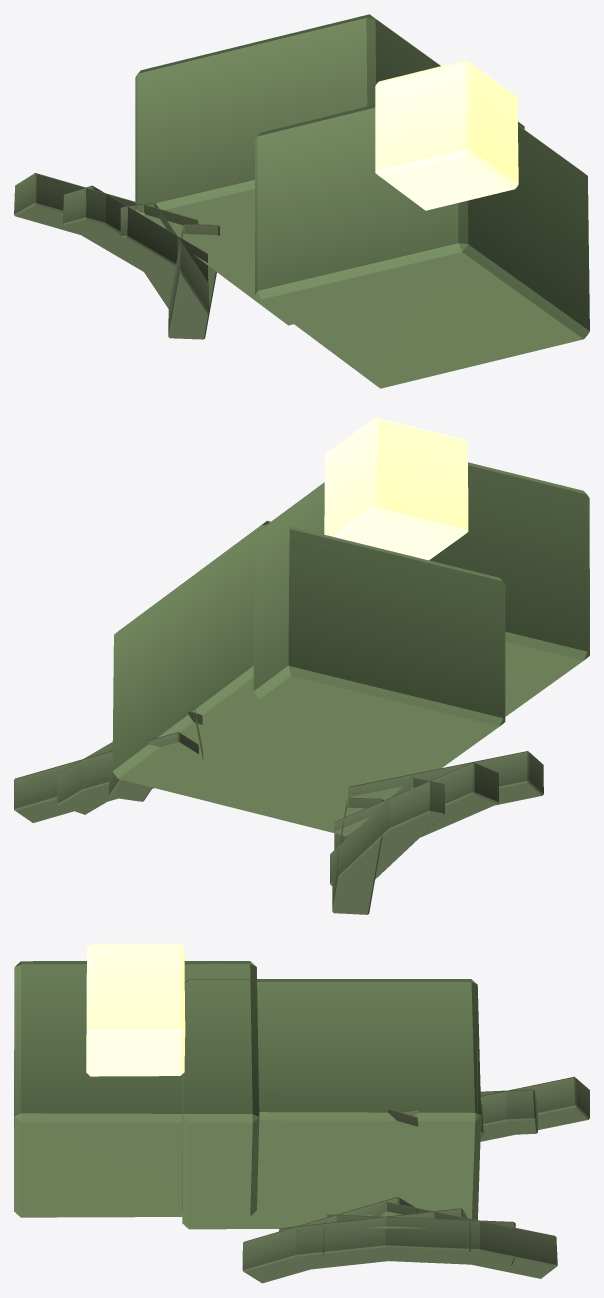
The model's file is acid_spider.glb.
The picture shows the model from 3 angles, top to bottom: view 1: azimuth 30°, elevation 25°; view 2: azimuth 150°, elevation 25°; view 3: azimuth 270°, elevation 25°; orthographic projection. The views are drawn at different scales.
Visible parts, largest first — view 1: Abdomen, Body, AcidSac, LegL2, LegL3, LegL1, LegL0; view 2: Body, Abdomen, AcidSac, LegR3, LegL1, LegL2, LegL0, LegL3, LegR2; view 3: Body, Abdomen, AcidSac, LegR3, LegR2, LegR1, LegL3, LegR0, LegL2.
Part boxes in pixels (x1,y1,x2,y2): Abdomen: (255,104,589,388); Body: (135,14,524,325); AcidSac: (375,60,518,210); LegL2: (63,185,208,292); LegL3: (14,173,198,258); LegL1: (120,202,209,317); LegL0: (168,224,219,339); Body: (112,520,505,836); Abdomen: (253,462,589,716); AcidSac: (324,417,468,560); LegR3: (14,732,198,822); LegL1: (334,762,498,849); LegL2: (330,777,444,890); LegL0: (348,751,543,811); LegL3: (332,797,383,914); LegR2: (57,710,202,814); Body: (182,979,481,1229); Abdomen: (14,961,259,1217); AcidSac: (86,943,185,1076); LegR3: (371,1202,557,1278); LegR2: (323,1214,515,1265); LegR1: (279,1208,470,1271); LegL3: (405,1076,589,1141); LegR0: (242,1197,417,1283); LegL2: (480,1089,537,1134).
Size of the model in its own units: 0.7725 by 0.4712 by 1.04.
